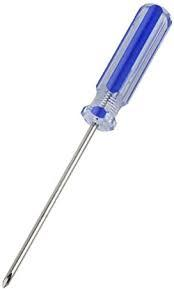screwdriver: (0, 3, 171, 288)
